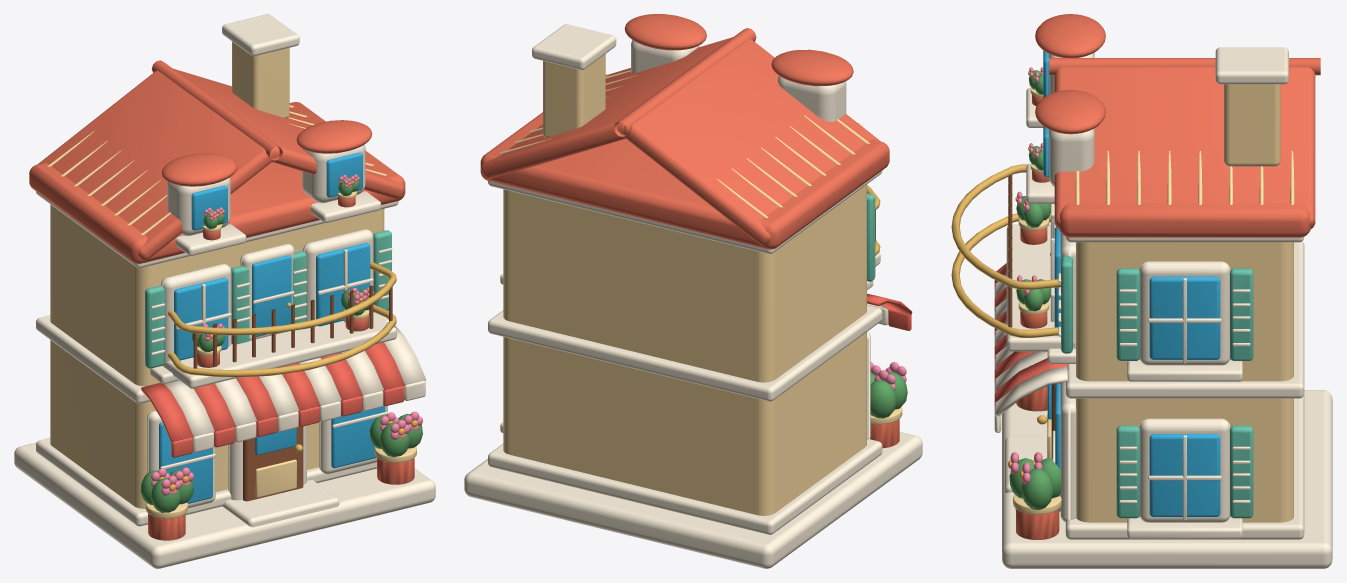
Rendered from townhouse.glb.
3 views of the same model, side by side, from view 1: azimuth 30°, elevation 25°; view 2: azimuth 150°, elevation 25°; view 3: azimuth 270°, elevation 25° (orthographic). The views are drawn at different scales.
Parts seen in each view (by area): view 1: Porcelain, Terracotta roof, Custard stucco, Sky, Coral, Mint, Brass, Butter, Caramel oak, Garden leaves, Rose; view 2: Custard stucco, Terracotta roof, Porcelain, Butter, Garden leaves, Coral, Mint; view 3: Porcelain, Terracotta roof, Custard stucco, Sky, Mint, Brass, Garden leaves, Butter, Coral, Caramel oak, Rose.
Boxes of the visible parts, x1=… form: Porcelain: x1=14, y1=14, x2=435, y2=568; Terracotta roof: x1=29, y1=60, x2=414, y2=540; Custard stucco: x1=50, y1=41, x2=384, y2=508; Sky: x1=159, y1=152, x2=385, y2=503; Coral: x1=141, y1=342, x2=404, y2=457; Mint: x1=145, y1=230, x2=391, y2=368; Brass: x1=167, y1=261, x2=396, y2=452; Butter: x1=47, y1=105, x2=416, y2=518; Caramel oak: x1=193, y1=285, x2=392, y2=501; Garden leaves: x1=140, y1=175, x2=422, y2=512; Rose: x1=151, y1=174, x2=422, y2=495; Custard stucco: x1=503, y1=54, x2=866, y2=515; Terracotta roof: x1=480, y1=14, x2=899, y2=448; Porcelain: x1=464, y1=24, x2=922, y2=568; Butter: x1=500, y1=70, x2=902, y2=424; Garden leaves: x1=870, y1=372, x2=907, y2=418; Coral: x1=867, y1=294, x2=912, y2=330; Mint: x1=867, y1=193, x2=875, y2=281; Porcelain: x1=994, y1=47, x2=1332, y2=568; Terracotta roof: x1=1015, y1=14, x2=1320, y2=539; Custard stucco: x1=1076, y1=84, x2=1293, y2=522; Sky: x1=1043, y1=50, x2=1220, y2=516; Mint: x1=1061, y1=256, x2=1253, y2=518; Brass: x1=951, y1=164, x2=1060, y2=424; Garden leaves: x1=1009, y1=70, x2=1061, y2=509; Butter: x1=1013, y1=87, x2=1294, y2=514; Coral: x1=994, y1=263, x2=1068, y2=406; Caramel oak: x1=1008, y1=175, x2=1056, y2=458; Rose: x1=1010, y1=67, x2=1043, y2=485.
Size of the model in its own units: 3.24 by 4.43 by 3.23.
